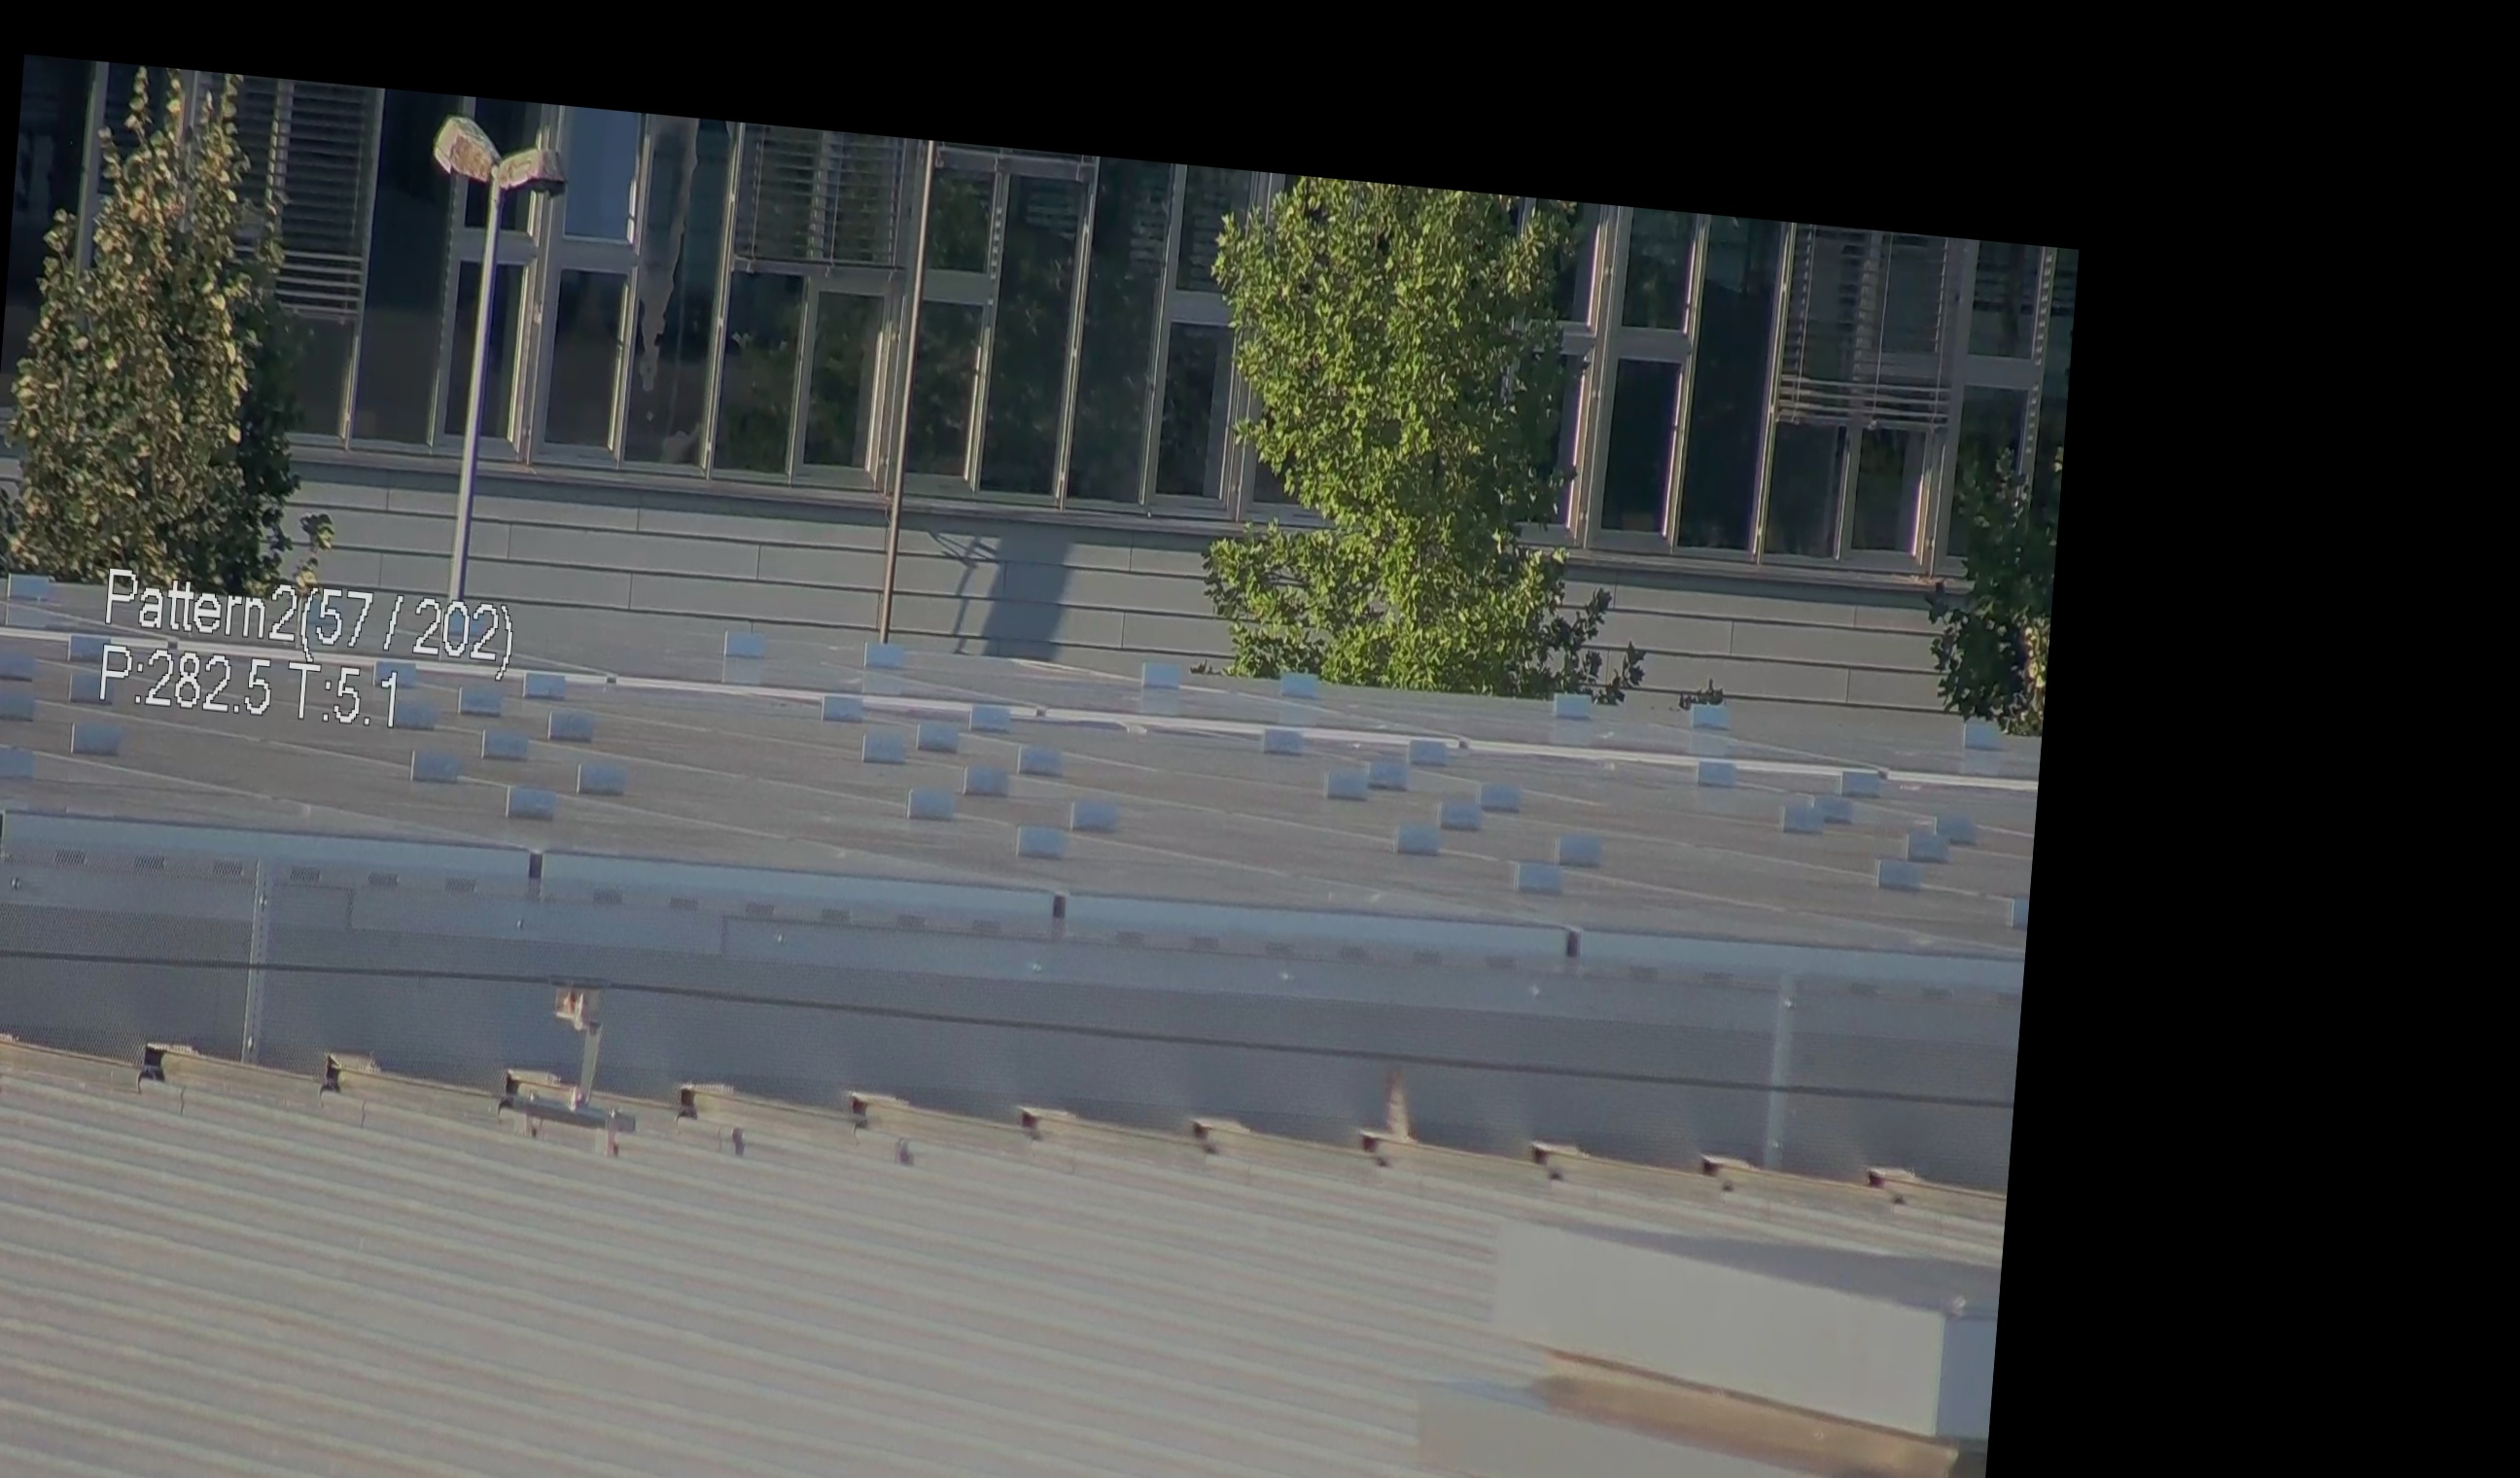Other: (1359, 1050, 1433, 1181)
